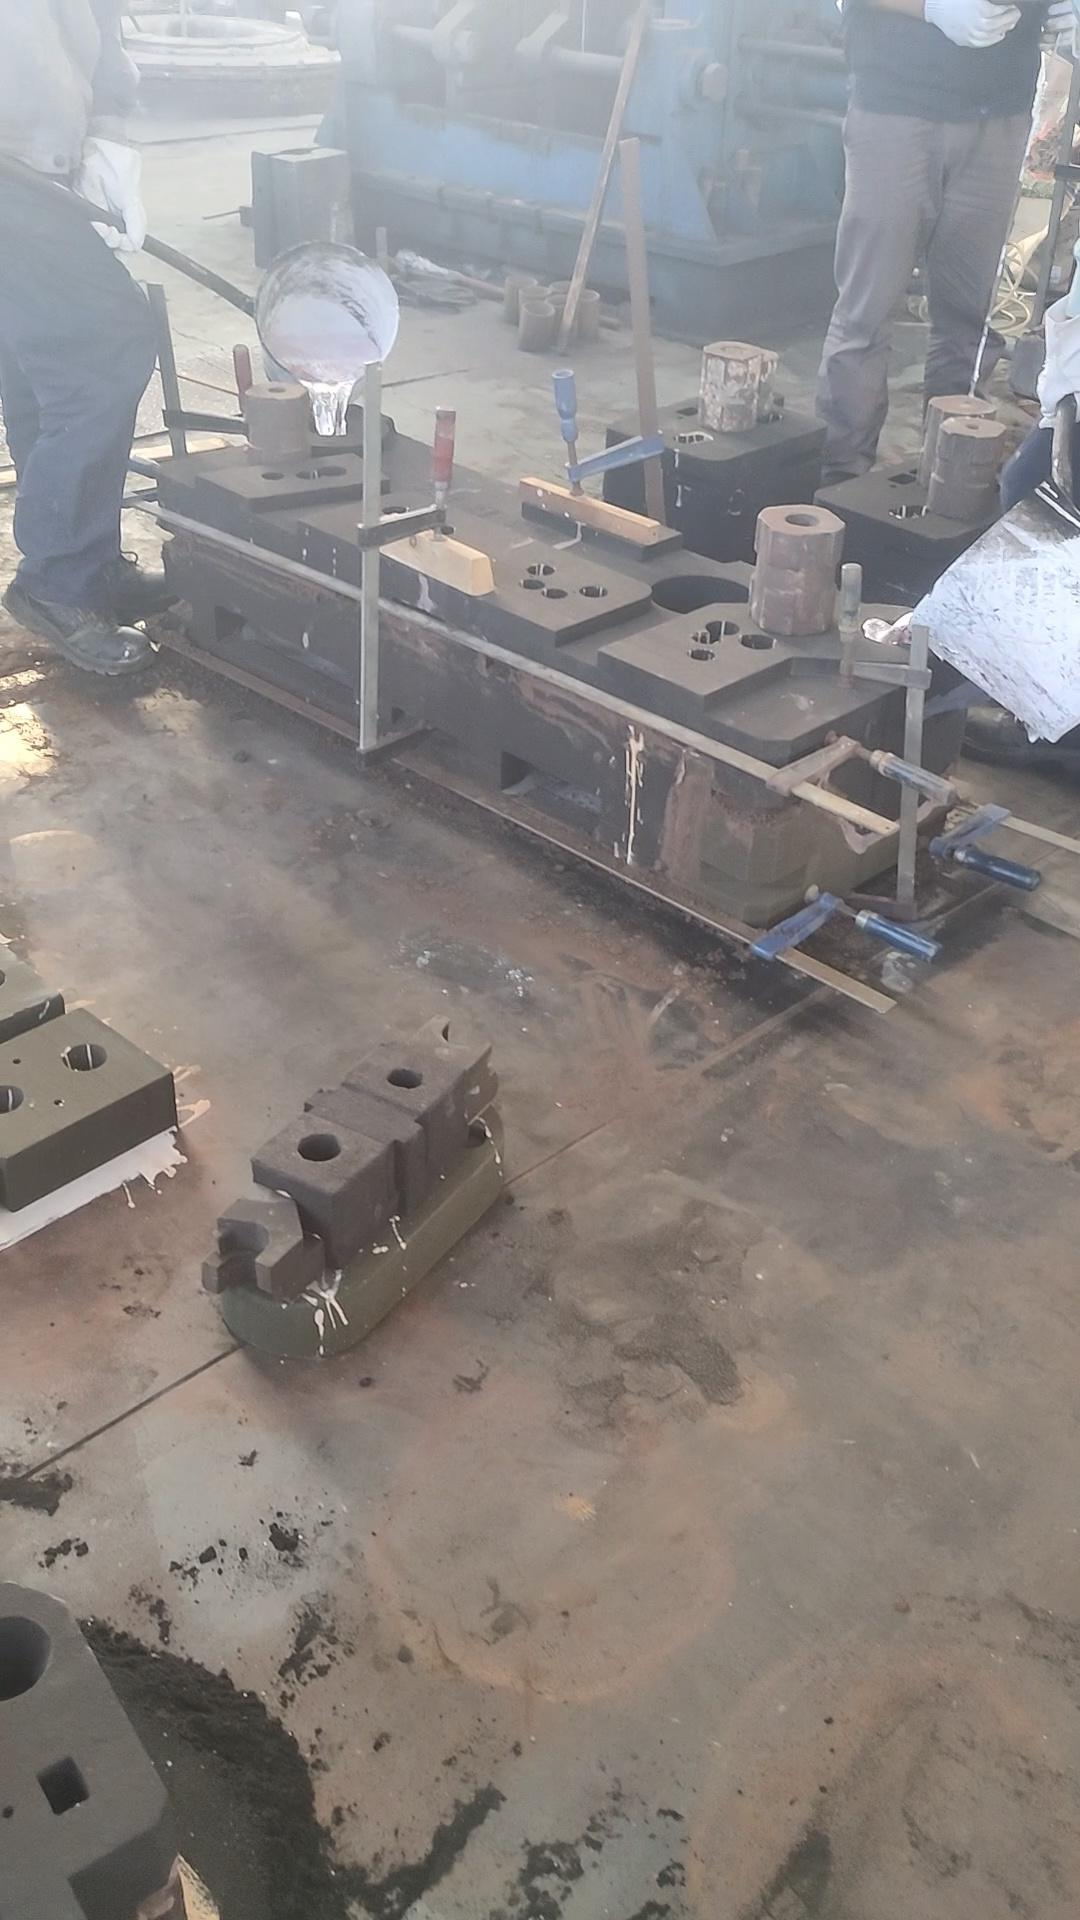pouring hole: (1, 1613, 50, 1702), (862, 616, 915, 645), (61, 1042, 108, 1072), (717, 373, 750, 401), (938, 438, 971, 465), (309, 415, 347, 436), (1, 1085, 25, 1116), (524, 301, 555, 316), (547, 294, 578, 307), (506, 274, 537, 287), (520, 285, 553, 297), (553, 280, 582, 291), (576, 289, 599, 301), (1, 971, 7, 986)
